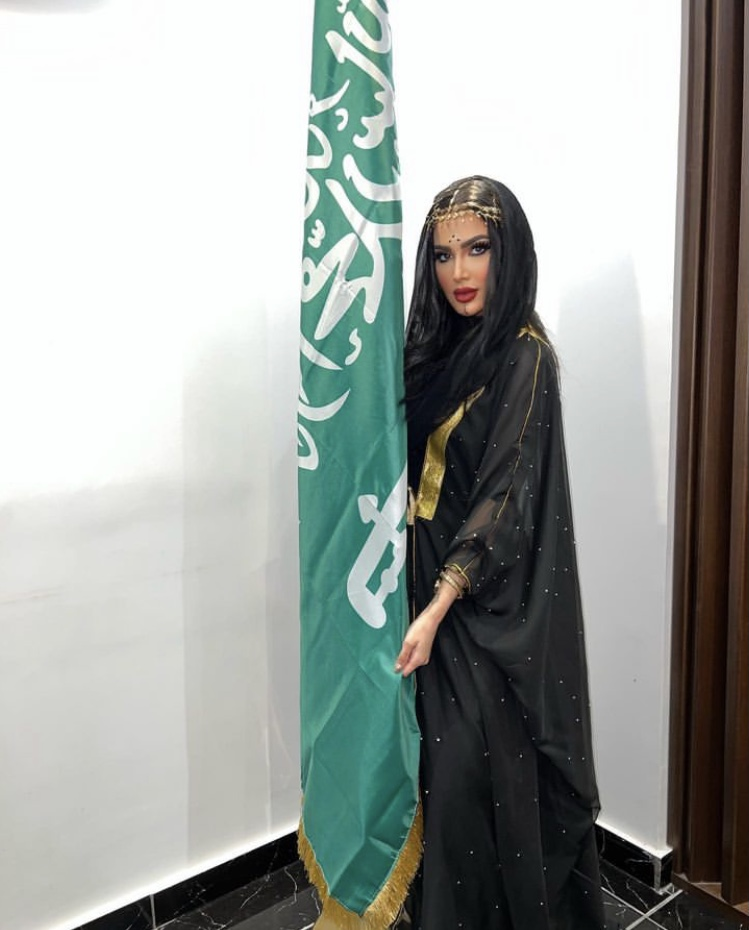Saudi_Founding_Day: (396, 173, 603, 930)
